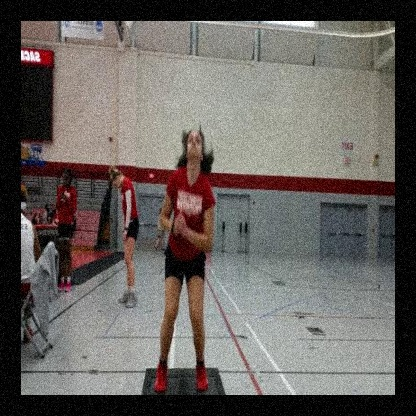lateral_flexion_right: (152, 124, 219, 395)
stance_width_normal: (153, 164, 218, 395)
